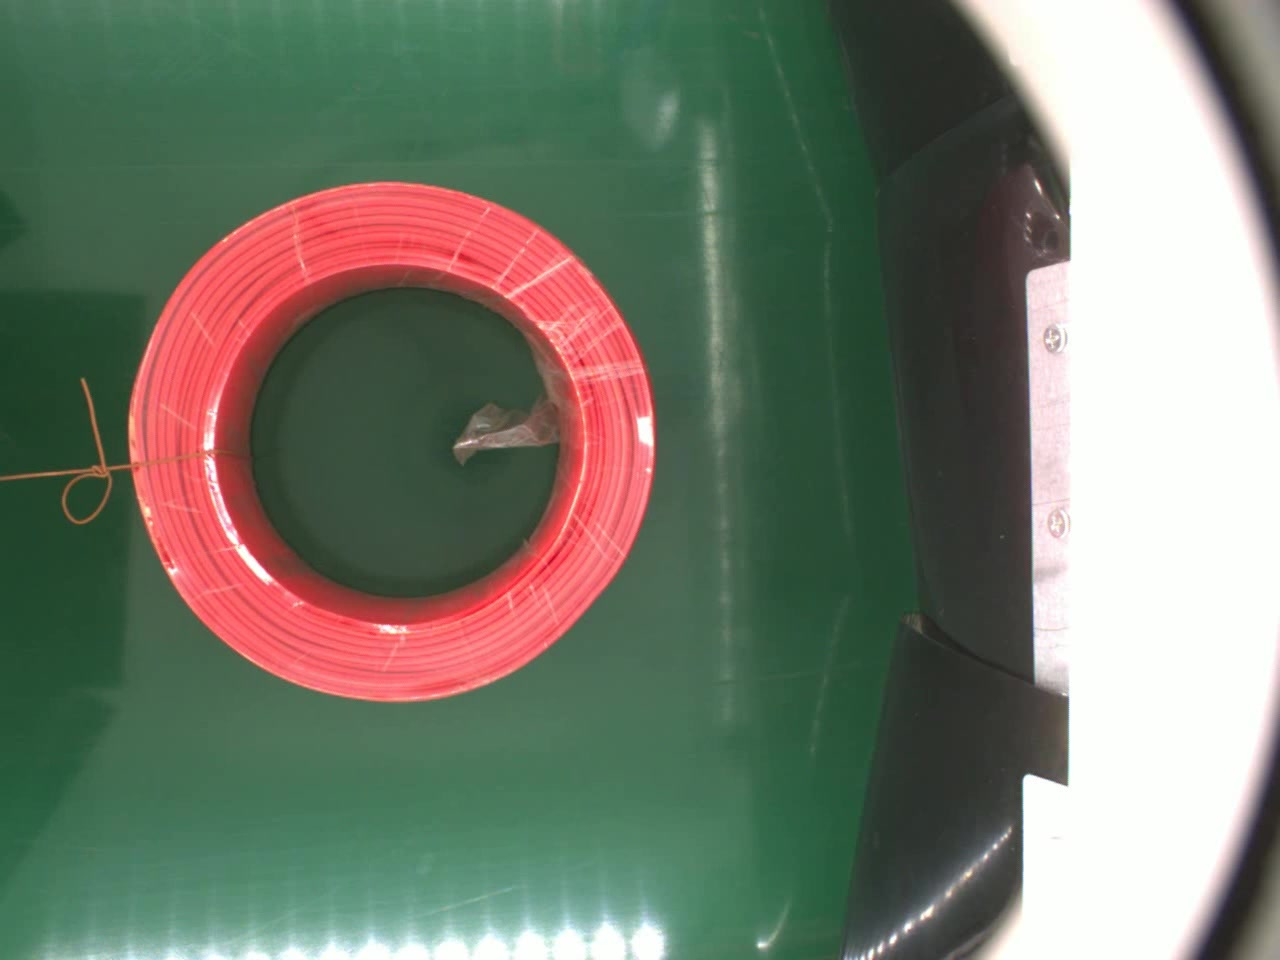red: (120, 172, 669, 712)
